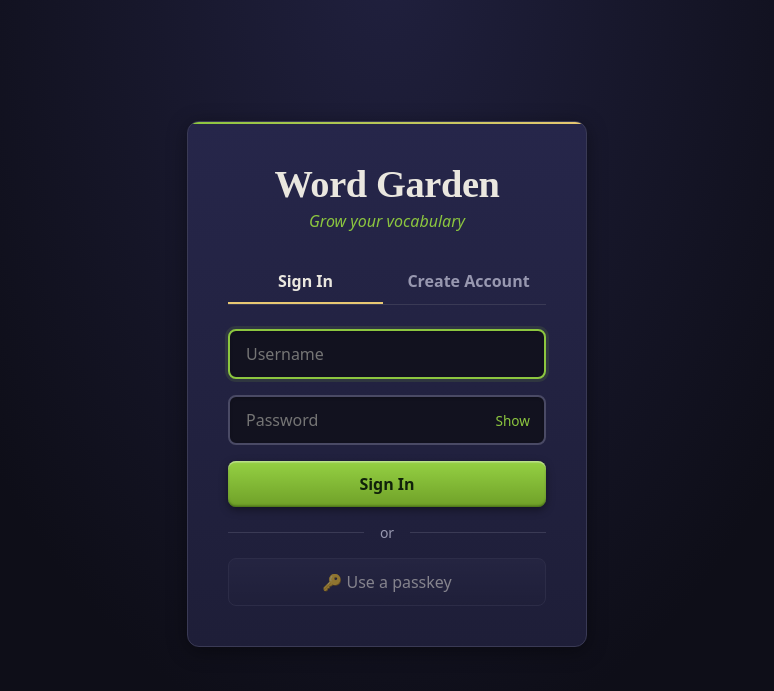
Test case: Server error mapping › shows a friendly message when a passkey sign-in fails without an HTTP status
Type "alice" into the field with placeholder "Username" at (387, 354), box [228,329,546,379]
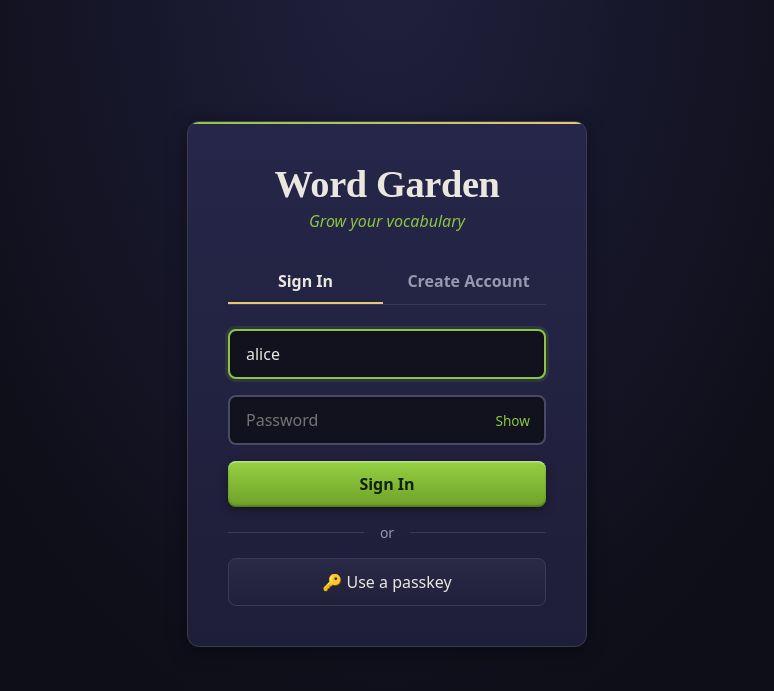
Click the button "🔑 Use a passkey" at (387, 582), box [228,558,546,606]
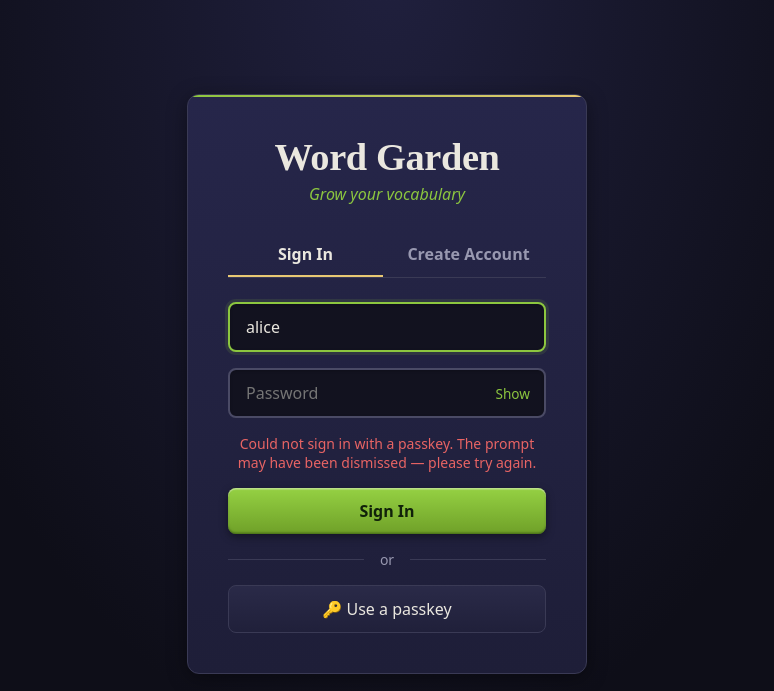
Check: the text "Could not sign in with a passkey" is shown, box [238,434,536,472]
